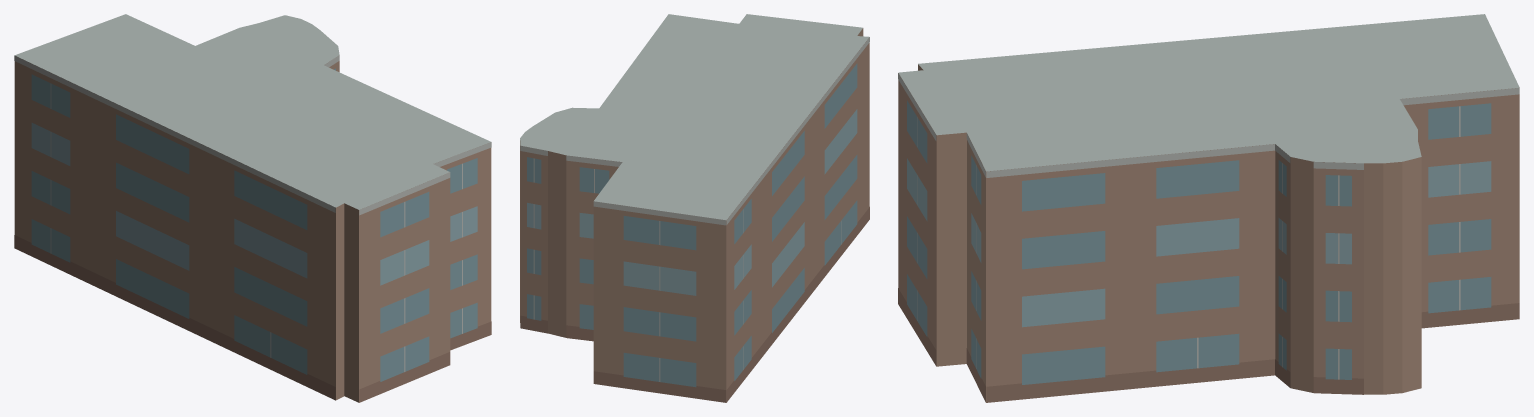
File: survey-upis-32840679.glb
3 views of the same model, side by side, from view 1: azimuth 30°, elevation 25°; view 2: azimuth 150°, elevation 25°; view 3: azimuth 270°, elevation 25° (orthographic). The views are drawn at different scales.
Visible parts, largest first — view 1: survey-upis-32840679.tmp; view 2: survey-upis-32840679.tmp; view 3: survey-upis-32840679.tmp.
Part boxes in pixels (x1,y1,x2,y2): survey-upis-32840679.tmp: (14, 14, 491, 402); survey-upis-32840679.tmp: (520, 14, 869, 402); survey-upis-32840679.tmp: (898, 14, 1519, 402).
Size of the model in its own units: 12.37 by 8.47 by 20.63.
